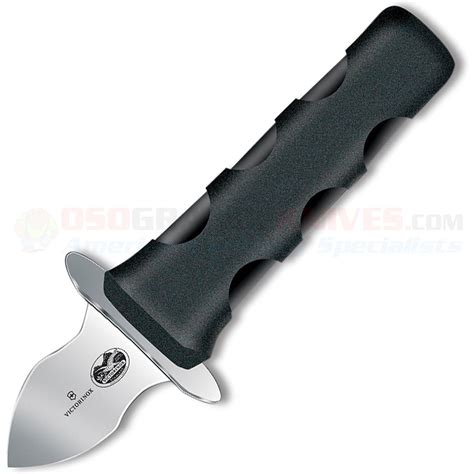knife: (7, 5, 456, 469)
